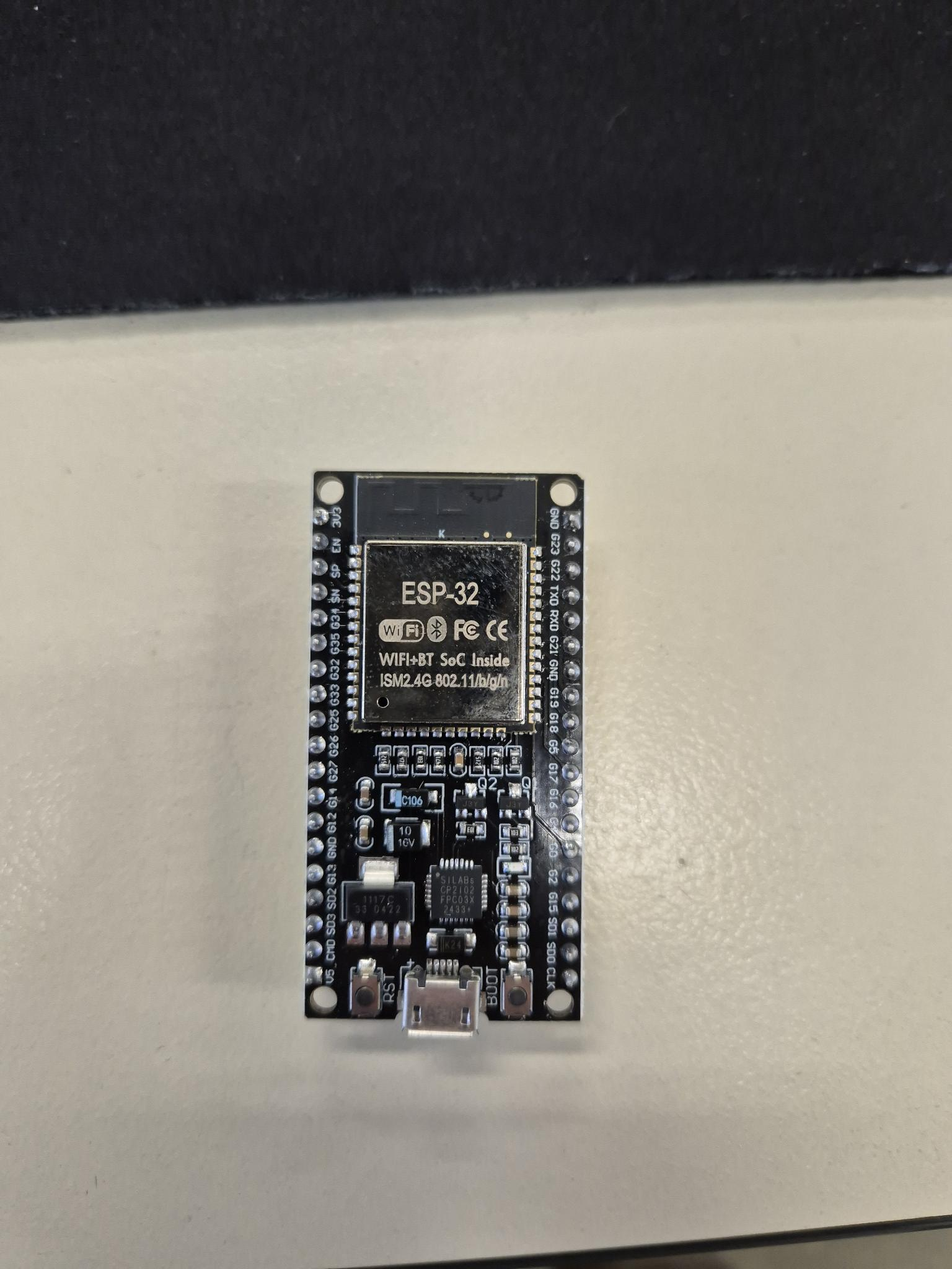esp32-dev: (305, 473, 583, 1035)
